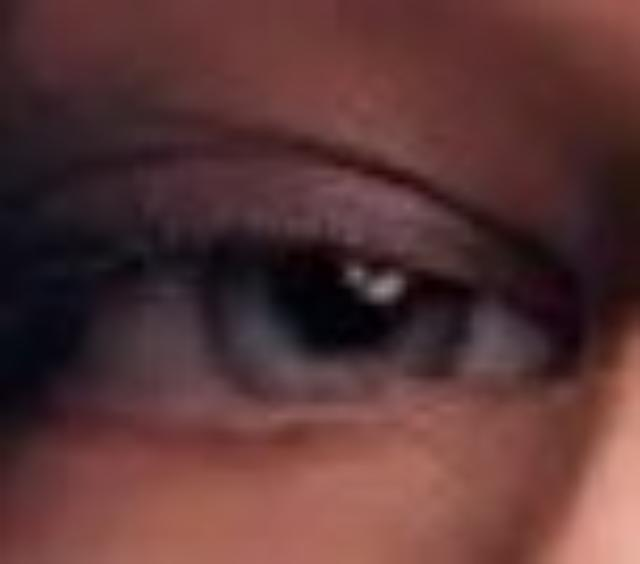eye: (192, 204, 482, 414)
